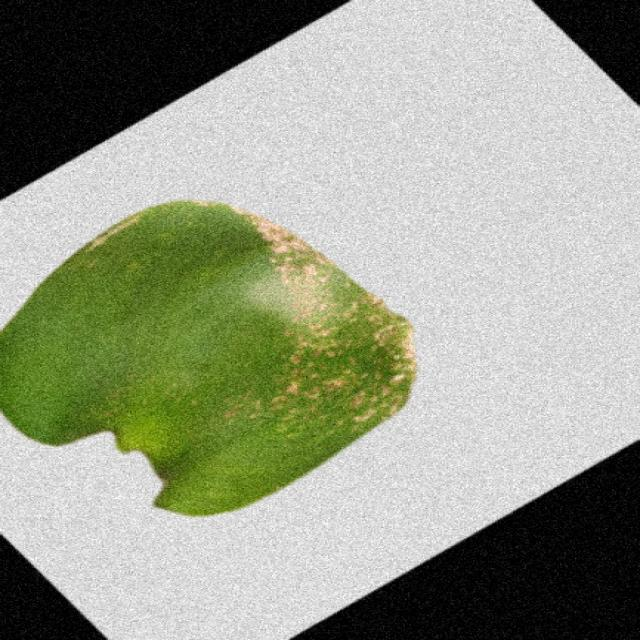daun berpenyakit bercak: (2, 202, 415, 516)
